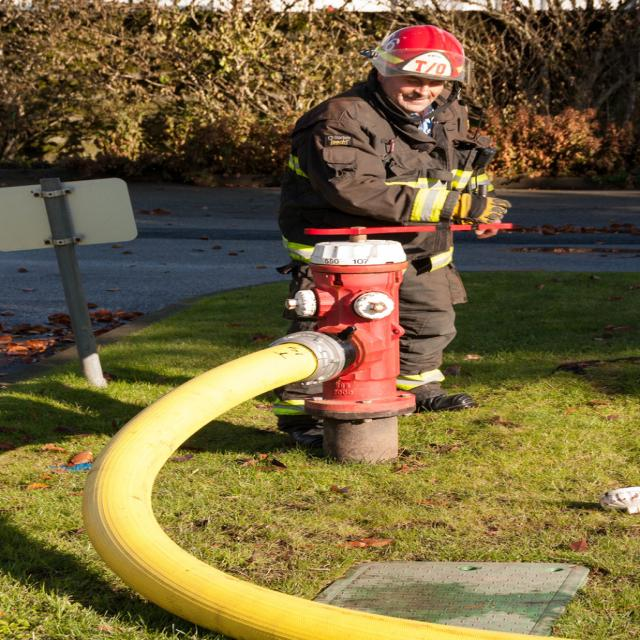fire_hydrant: (281, 224, 409, 456)
